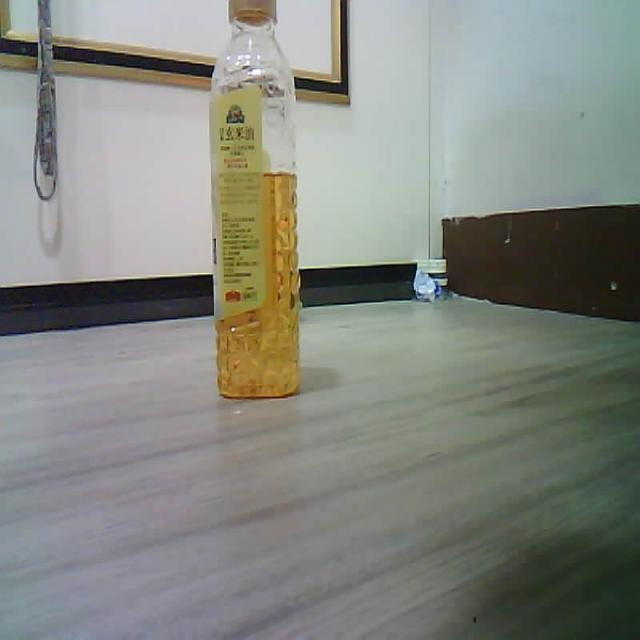bottle: (210, 0, 299, 397)
